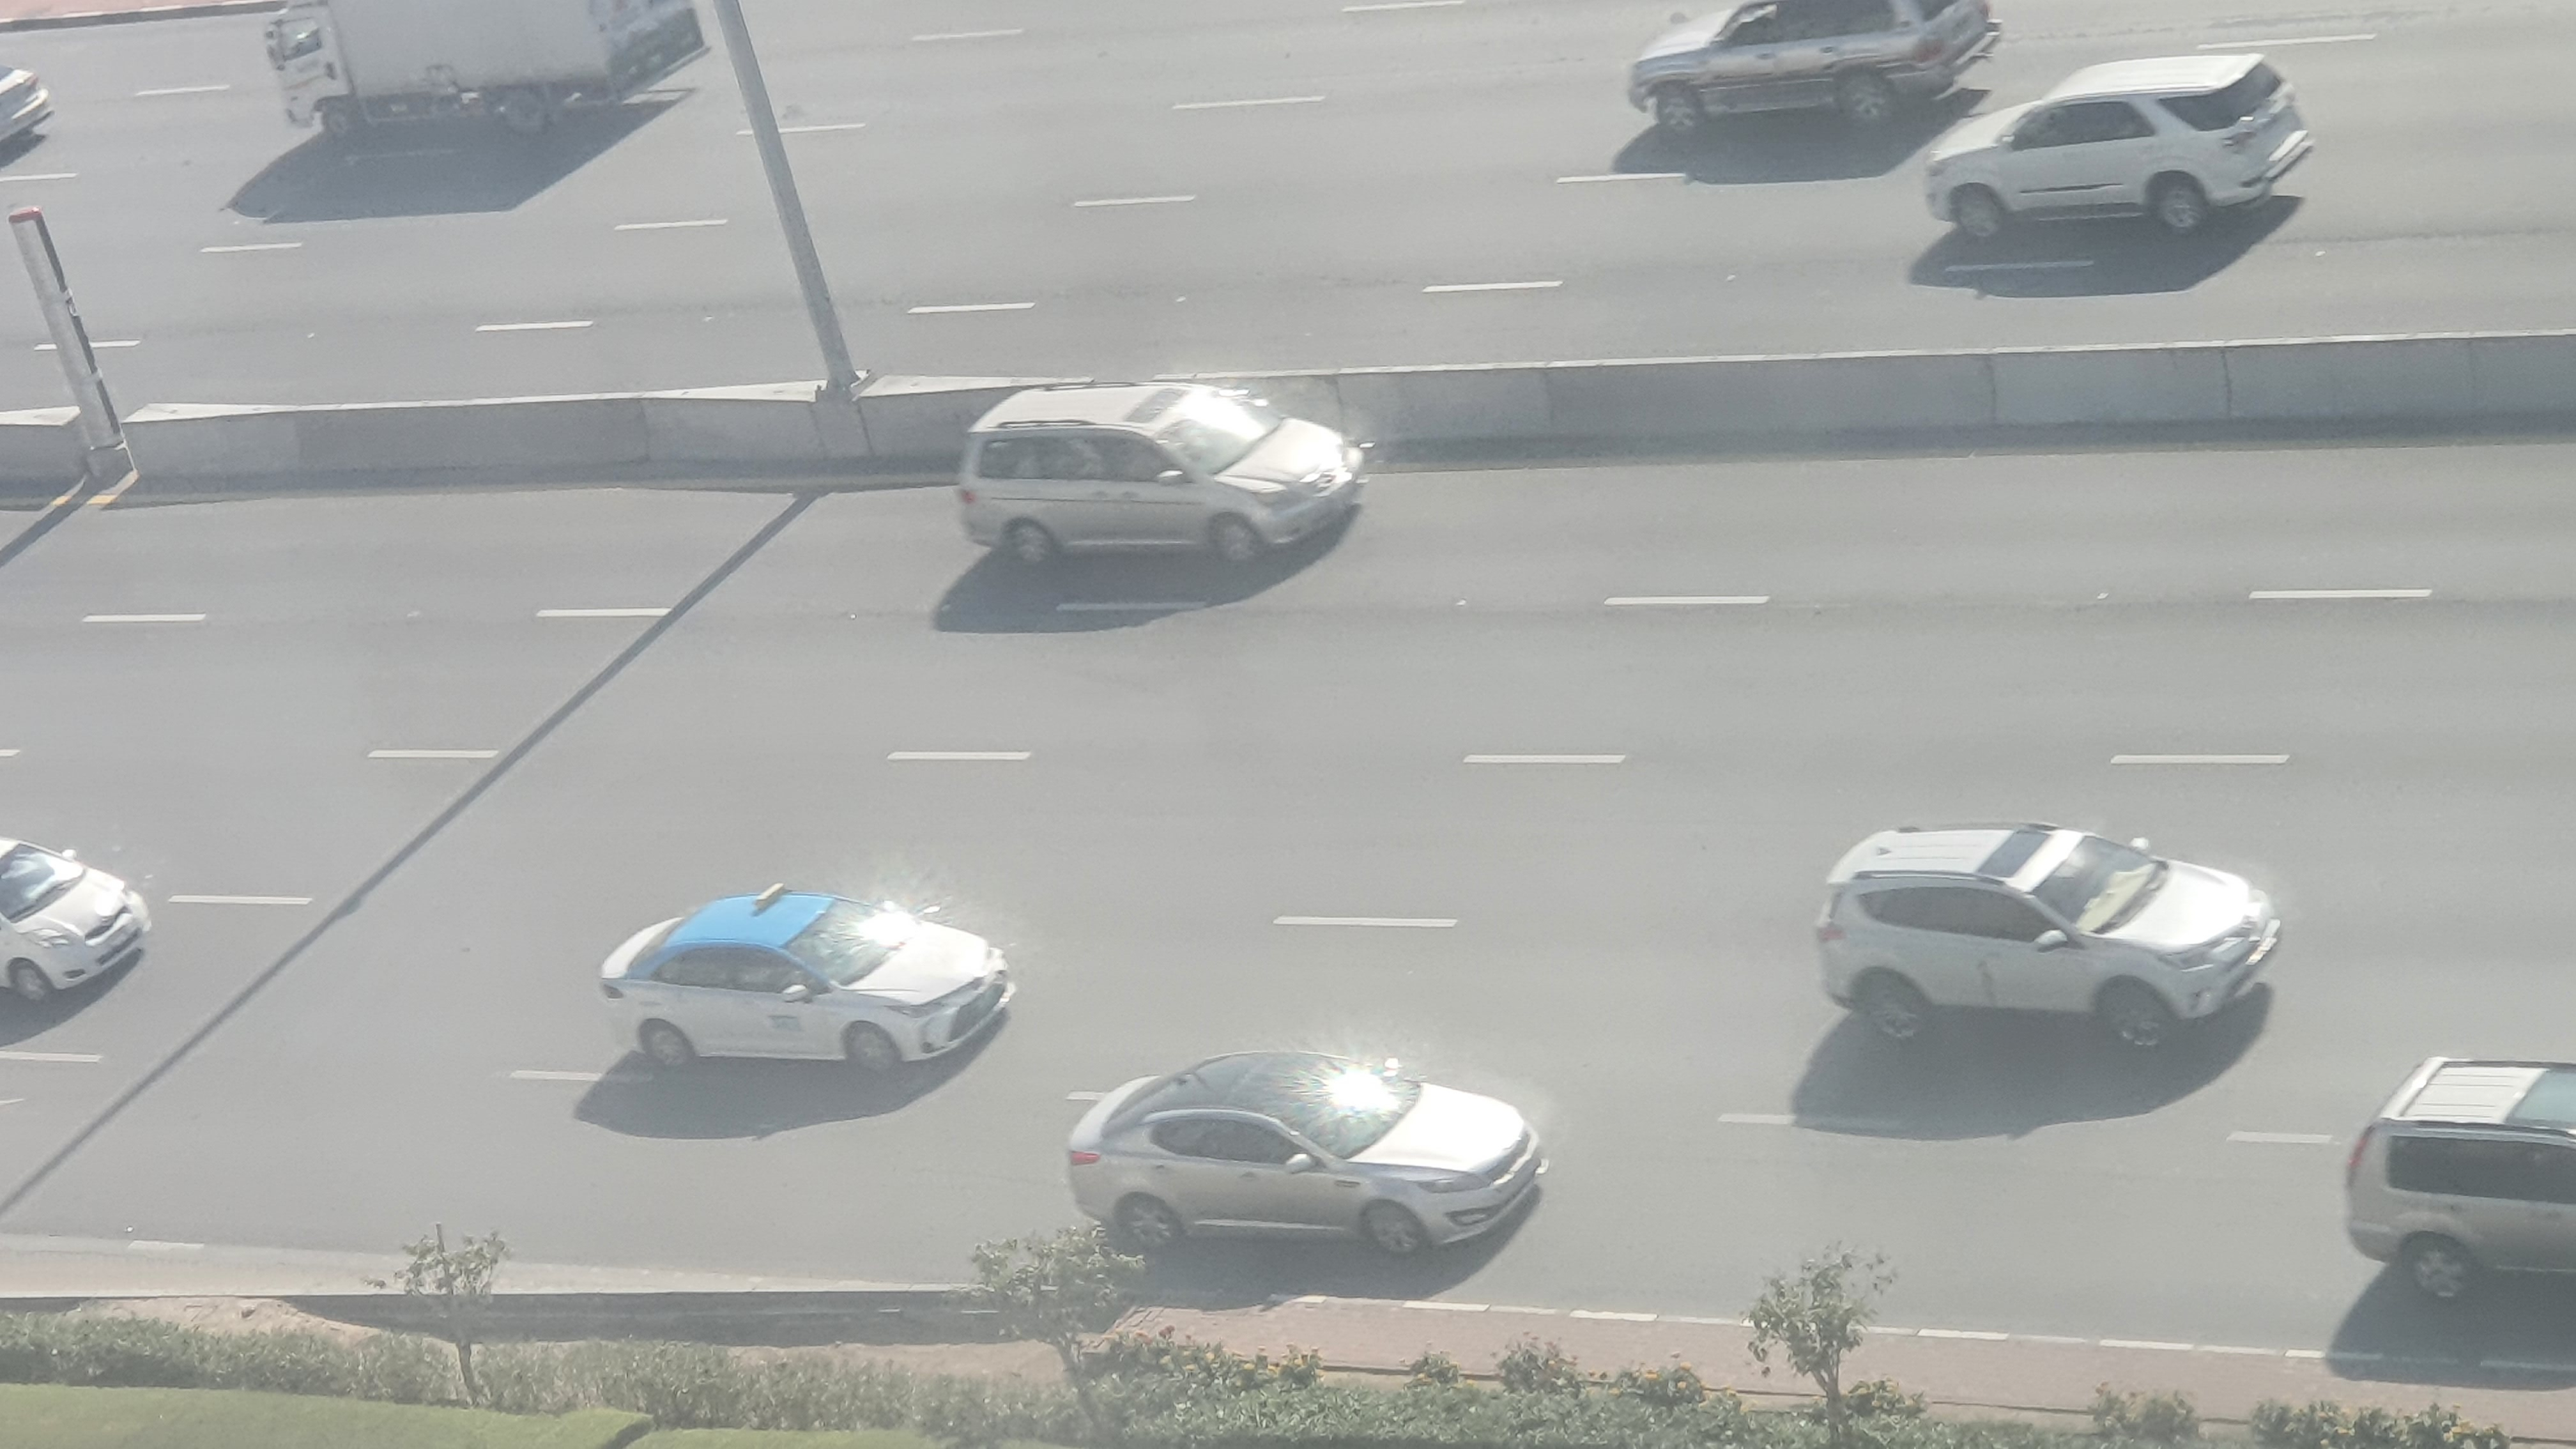NotSunroof: (594, 883, 1019, 1085)
Sunroof: (1792, 810, 2296, 1058), (1054, 1044, 1552, 1270), (948, 372, 1369, 573), (2346, 1051, 2576, 1307)
